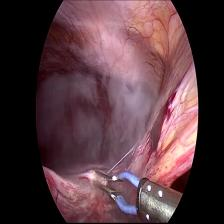Bipolar: (92, 168, 163, 218)
